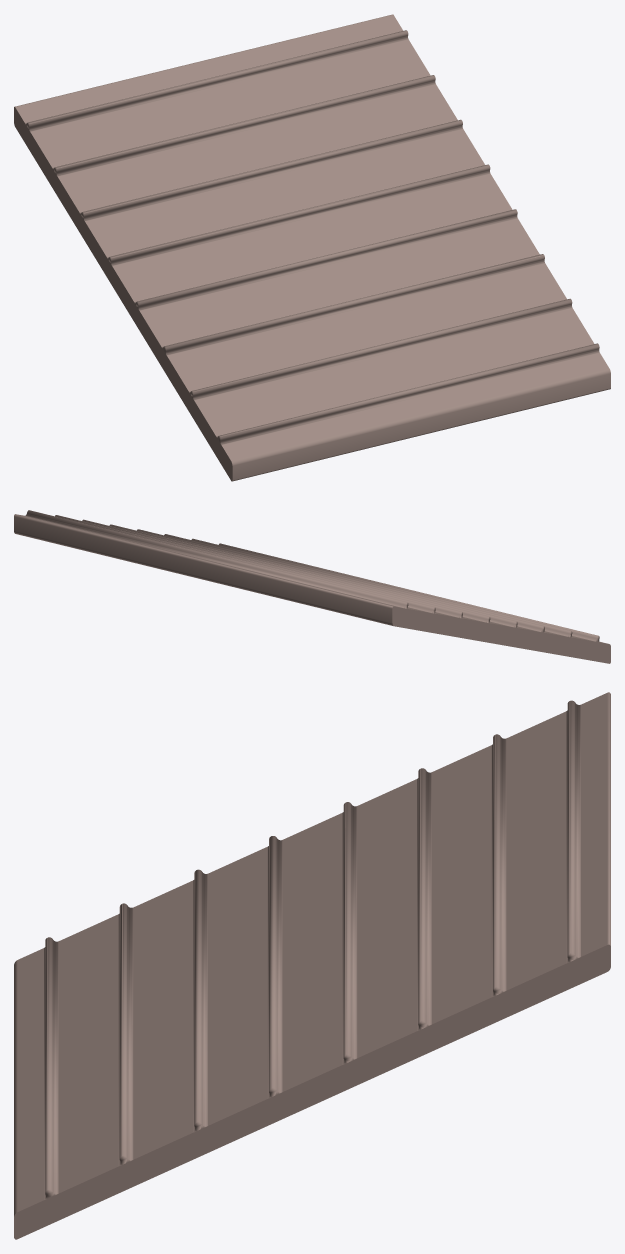
The model's file is RoofSlope.glb.
3 renders of one model, top to bottom at view 1: azimuth 30°, elevation 25°; view 2: azimuth 150°, elevation 25°; view 3: azimuth 270°, elevation 25°, orthographic. The views are drawn at different scales.
Visible parts, largest first — view 1: PBK_slope.003; view 2: PBK_slope.003; view 3: PBK_slope.003.
Boxes of the visible parts, x1,y1,x2,y2 form: PBK_slope.003: (14,14,610,481); PBK_slope.003: (14,510,610,663); PBK_slope.003: (14,692,610,1239).
Bounding box in the file's own units: 2 × 1.09 × 2.
